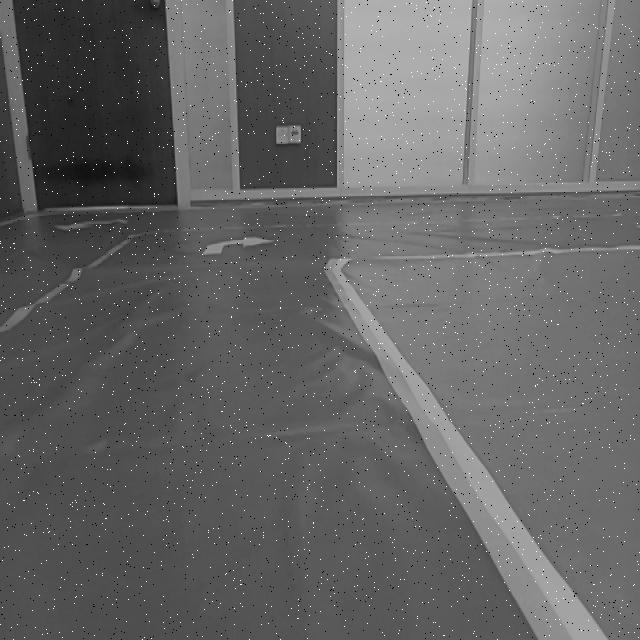left_lane: (0, 235, 135, 338)
right_lane: (323, 268, 571, 640)
